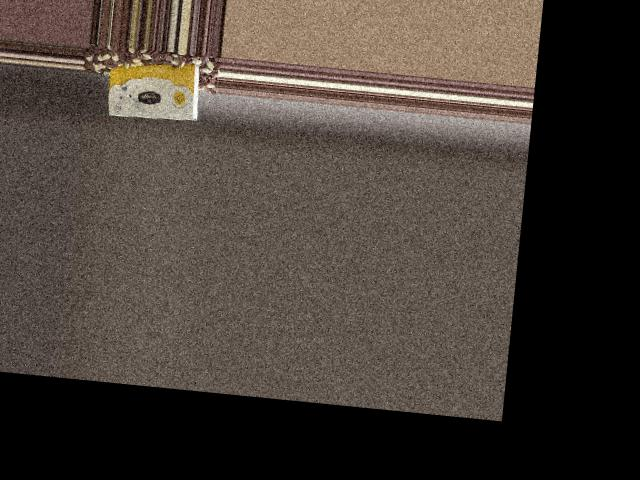chocolate: (100, 53, 206, 127)
